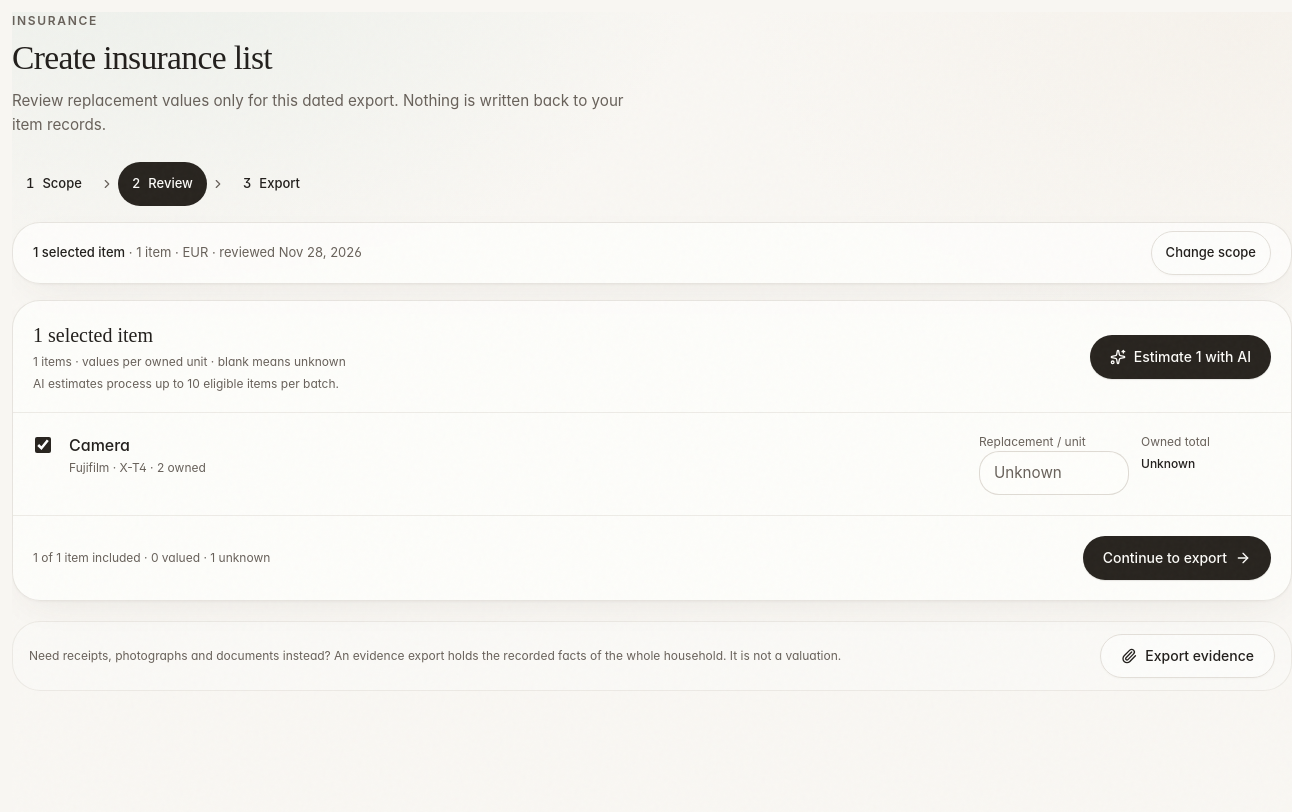
Test: InsurancePage › walks Scope, Review and Export in order and says what is unknown before exporting
Check: the element "scope" shows "1 selected item · 1 item · EUR", box [12,222,1291,284]
Check: the message reads "1 of 1 item included · 0 valued · 1 unknown", box [33,549,270,566]
Click the button "Continue to export": (1177, 558) [1083,536,1271,580]
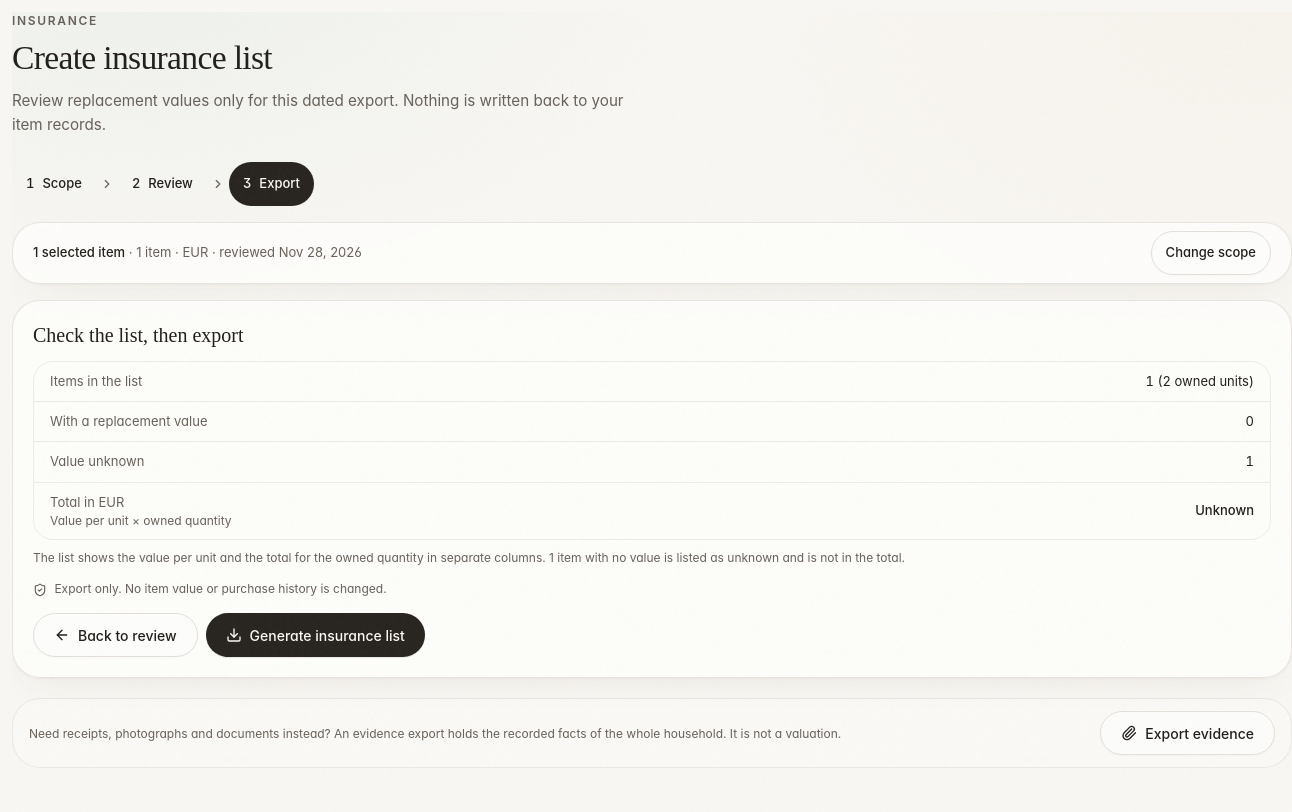
Check: the element "export" shows "Total in EUR", box [12,300,1291,678]
Check: the element "export" shows "1 item with no value is listed as unknown and is not in the total.", box [549,550,905,565]
Click the button "Back to review": (115, 636) [33,614,198,658]
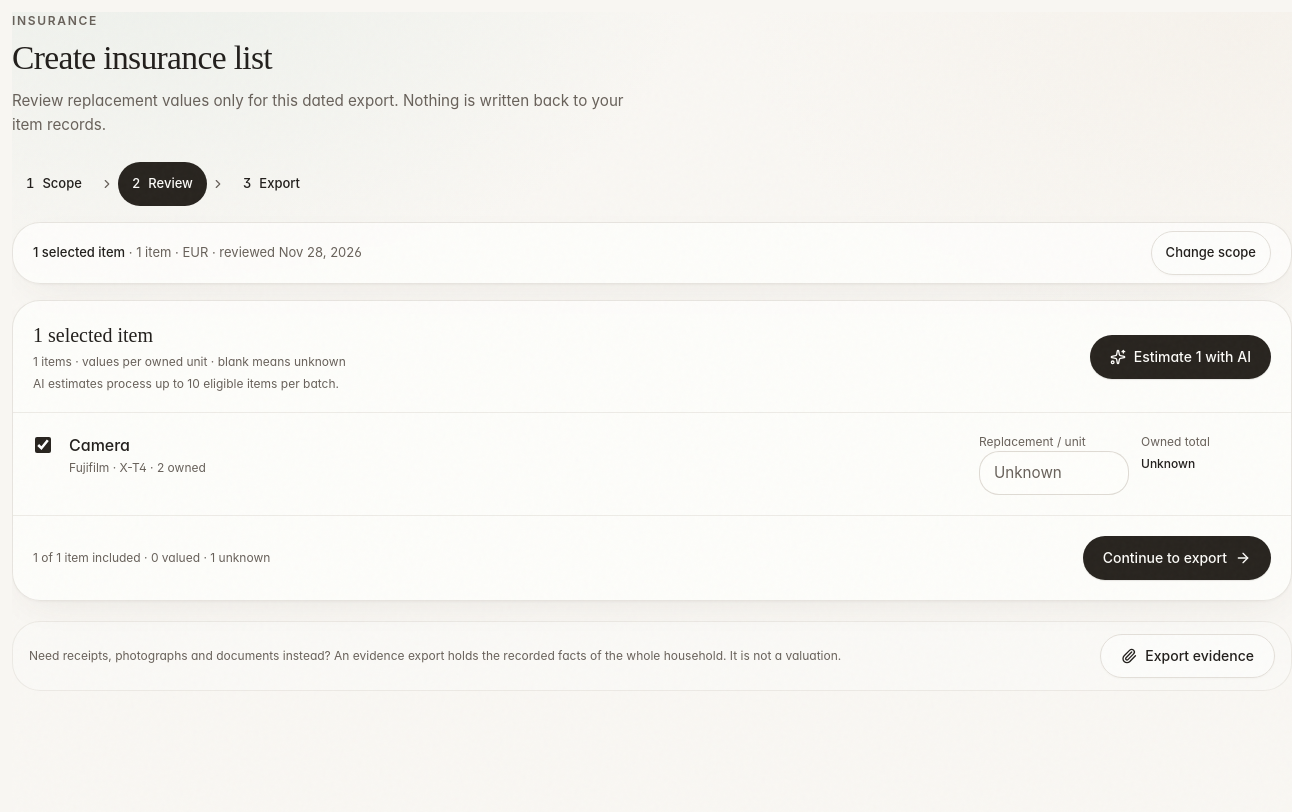
Check: the number field named "Replacement value for Camera" is shown, box [979,451,1129,495]
Click the button "Change scope": (1211, 253) [1151,231,1271,275]
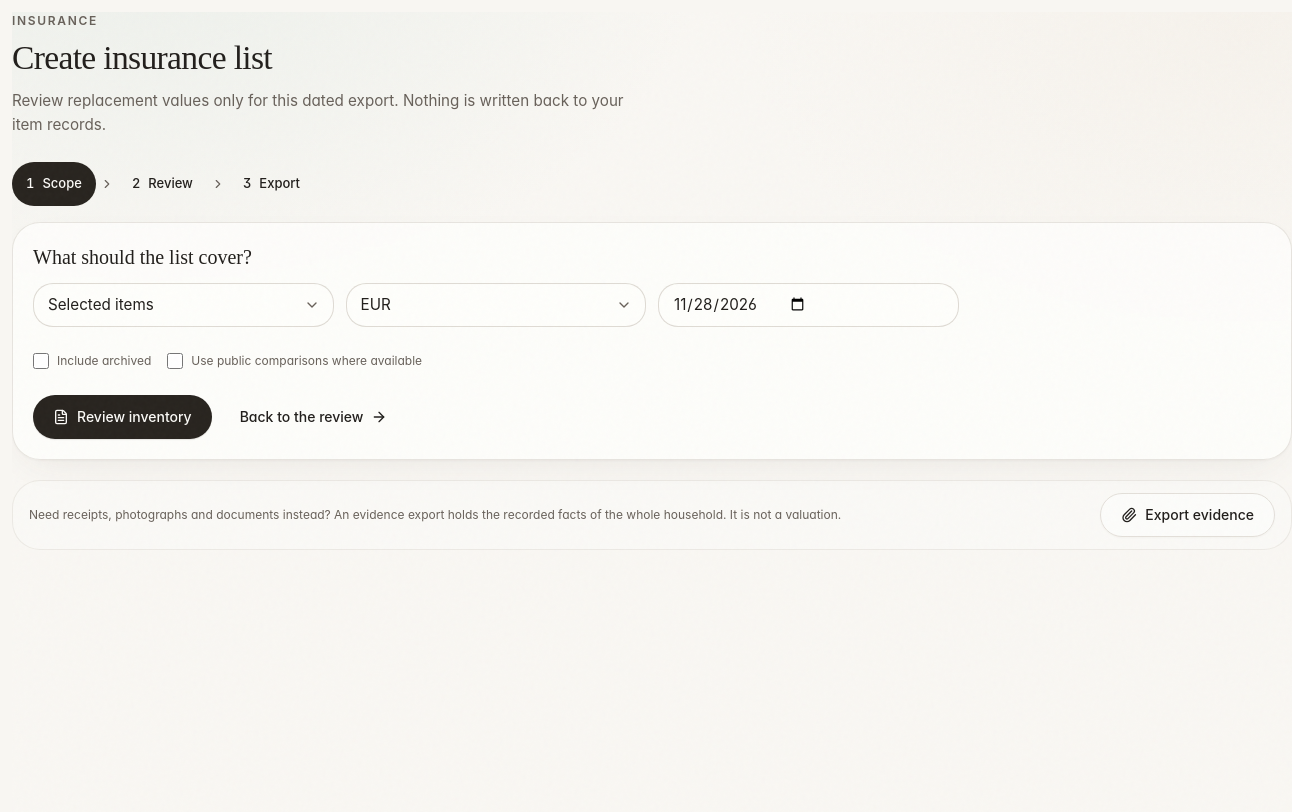
Check: the dropdown named "Insurance scope" shows "Selected items"
The loaded review is kept until the scope itself is changed.
Select "Whole household" in the dropdown named "Insurance scope": (183, 305) [33,283,334,327]
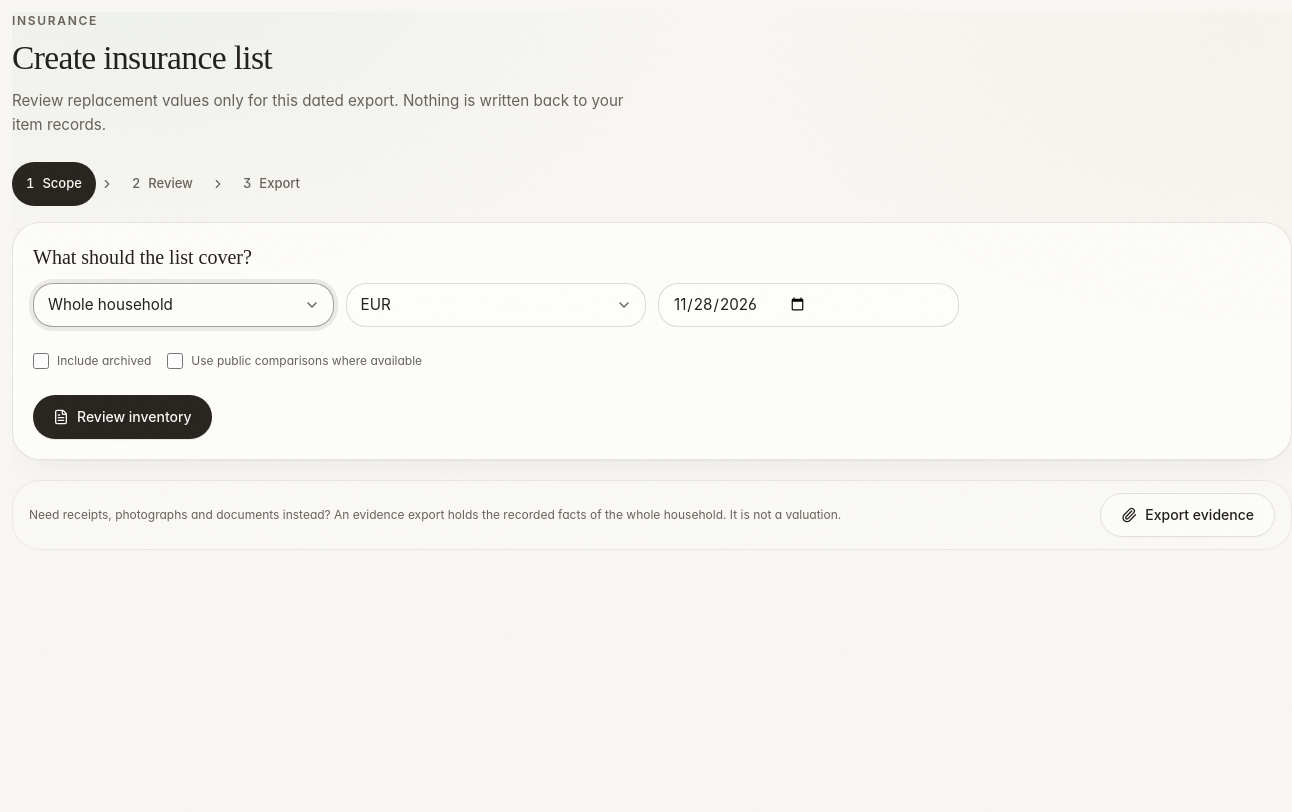
Check: the button "2 Review" is disabled, box [118,162,207,206]
Check: the button "3 Export" is disabled, box [229,162,314,206]
